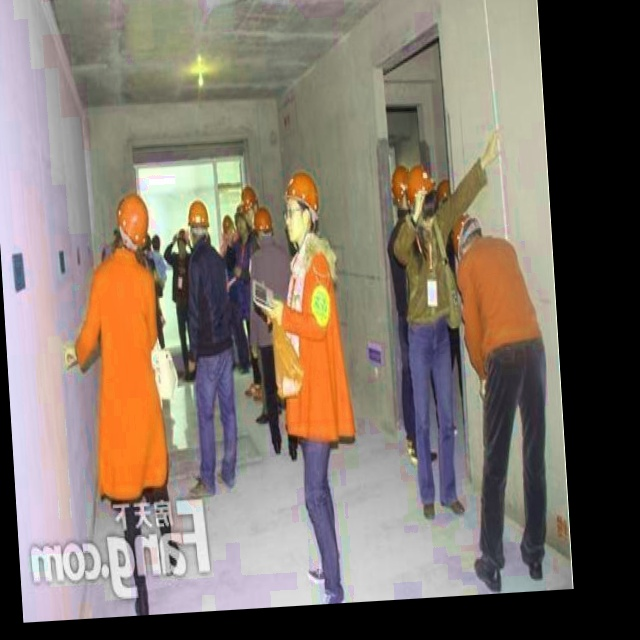Con_Casco: (279, 171, 322, 246), (114, 191, 149, 251)
